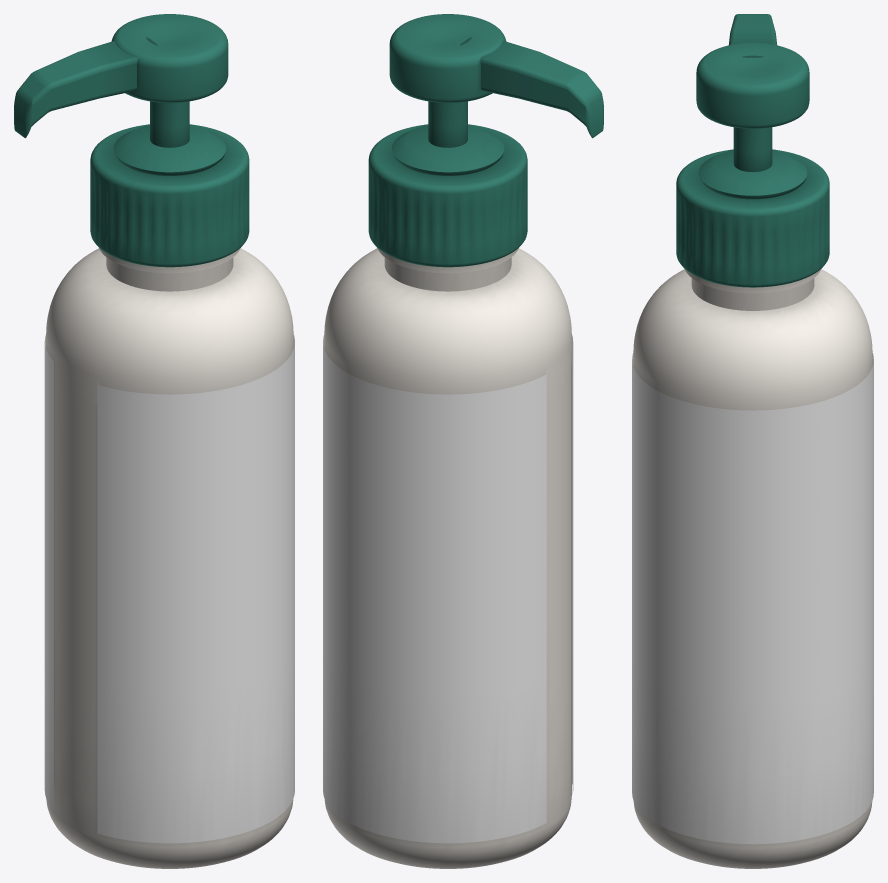
The model's file is confort.glb.
3 renders of one model, left to right at view 1: azimuth 30°, elevation 25°; view 2: azimuth 150°, elevation 25°; view 3: azimuth 270°, elevation 25°, orthographic. The views are drawn at different scales.
Parts seen in each view (by area): view 1: etiquette, corps, bague, tete, bec, tige; view 2: etiquette, corps, bague, tete, bec, tige; view 3: etiquette, corps, bague, tete, tige, bec.
Boxes of the visible parts, box(x1,y1,x2,y2) form: etiquette: box(44, 335, 294, 843); corps: box(46, 248, 293, 868); bague: box(90, 124, 249, 267); tete: box(111, 14, 228, 102); bec: box(14, 37, 157, 138); tige: box(150, 101, 189, 147); etiquette: box(323, 335, 573, 843); corps: box(324, 248, 571, 868); bague: box(368, 124, 527, 267); tete: box(389, 14, 506, 102); bec: box(460, 37, 603, 138); tige: box(428, 101, 467, 147); etiquette: box(632, 353, 873, 844); corps: box(633, 269, 872, 868); bague: box(676, 149, 829, 287); tete: box(696, 42, 809, 128); tige: box(733, 127, 772, 171); bec: box(729, 14, 776, 57).
Size of the model in its own units: 0.4217 by 1.24 by 0.3536.
